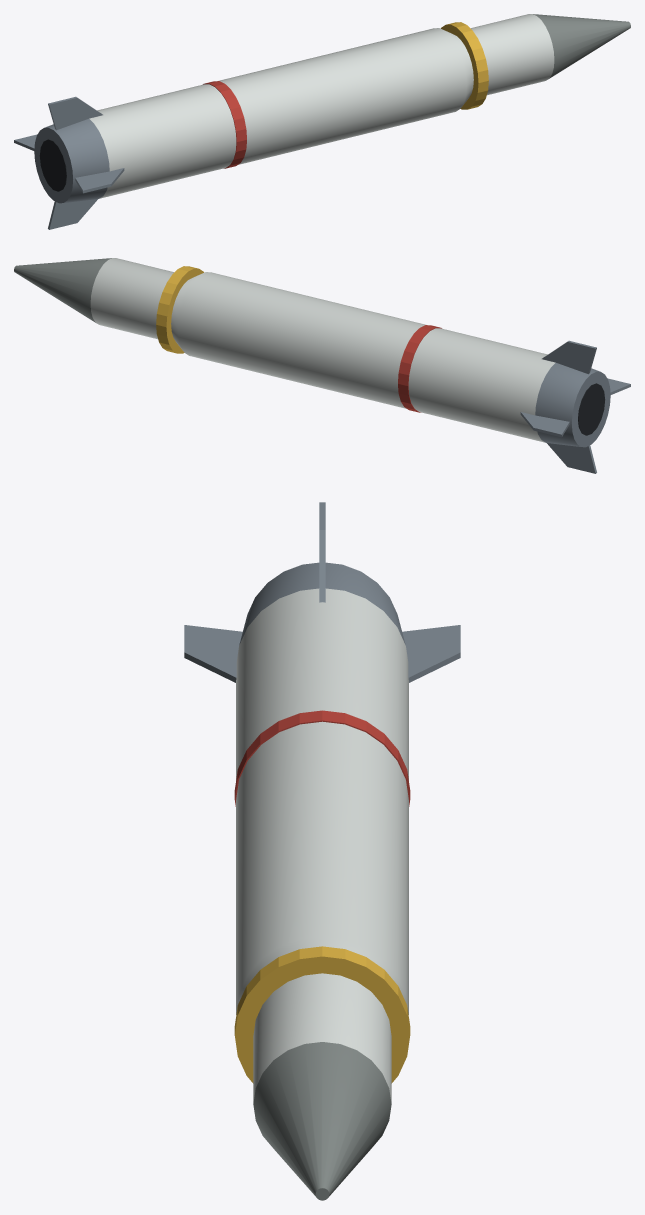
The model's file is pla_df21d.glb.
3 views of the same model, one above another, from view 1: azimuth 30°, elevation 25°; view 2: azimuth 150°, elevation 25°; view 3: azimuth 270°, elevation 25° (orthographic). The views are drawn at different scales.
Parts seen in each view (by area): view 1: missile_body, titanium, seeker, marking_yellow, rubber, hazard_red; view 2: missile_body, titanium, seeker, marking_yellow, rubber, hazard_red; view 3: missile_body, seeker, titanium, marking_yellow, hazard_red.
Part boxes in pixels (x1=…): missile_body: x1=89, y1=14, x2=554, y2=198; titanium: x1=14, y1=96, x2=124, y2=229; seeker: x1=533, y1=14, x2=630, y2=78; marking_yellow: x1=441, y1=22, x2=488, y2=109; rubber: x1=39, y1=139, x2=66, y2=191; hazard_red: x1=203, y1=81, x2=246, y2=168; missile_body: x1=90, y1=258, x2=555, y2=442; titanium: x1=520, y1=340, x2=630, y2=473; seeker: x1=14, y1=258, x2=111, y2=322; marking_yellow: x1=156, y1=266, x2=203, y2=353; rubber: x1=578, y1=383, x2=605, y2=435; hazard_red: x1=398, y1=325, x2=441, y2=412; missile_body: x1=236, y1=588, x2=408, y2=1103; seeker: x1=253, y1=1042, x2=391, y2=1200; titanium: x1=184, y1=502, x2=460, y2=682; marking_yellow: x1=234, y1=946, x2=410, y2=1083; hazard_red: x1=234, y1=710, x2=410, y2=806.
Bounding box in the file's own units: 10 × 2.06 × 2.06.
